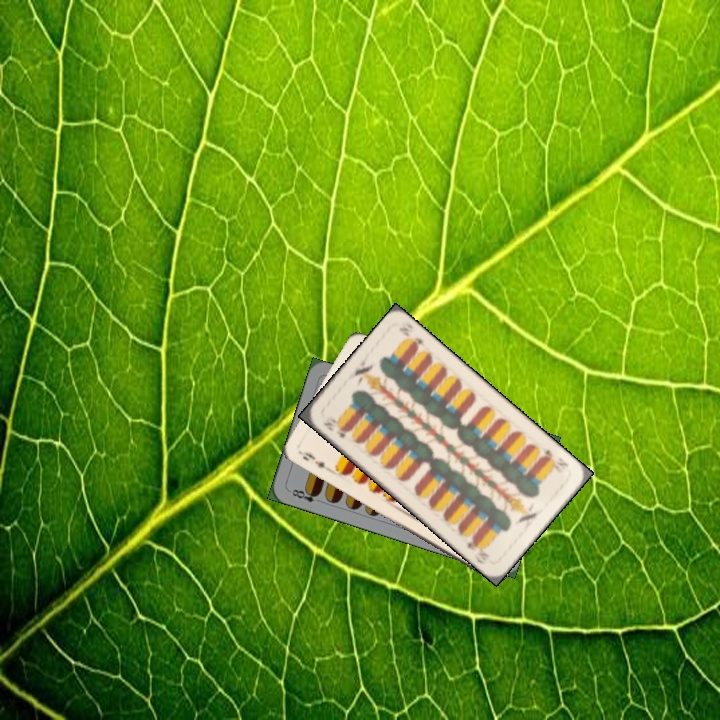E10: (538, 445, 571, 471), (320, 413, 351, 440)
E8: (285, 485, 324, 505)
E9: (298, 448, 333, 472)
